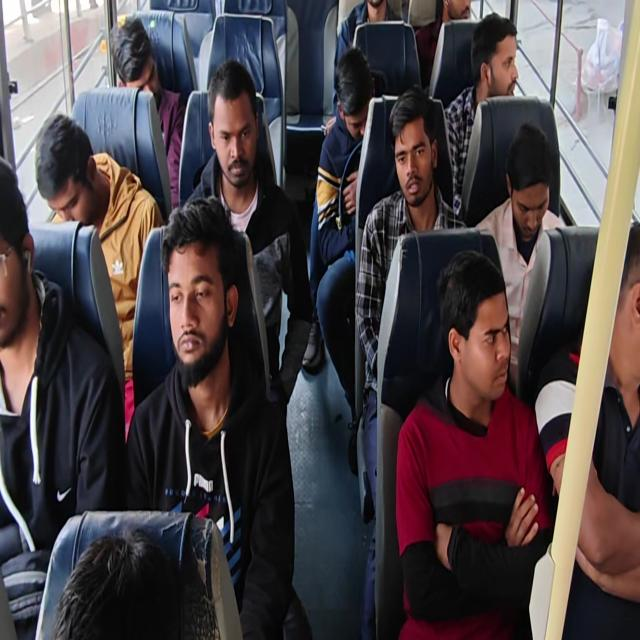person: (57, 515, 204, 640), (426, 253, 529, 419), (164, 210, 250, 393), (210, 52, 287, 191), (0, 140, 46, 358), (385, 85, 449, 215), (33, 101, 97, 227), (504, 117, 564, 251), (610, 200, 640, 414), (104, 2, 166, 98), (474, 11, 531, 104), (338, 32, 383, 139), (362, 0, 398, 27), (441, 0, 473, 25)
